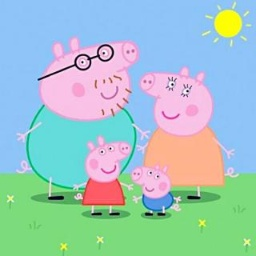Peppa: (72, 134, 132, 218)
